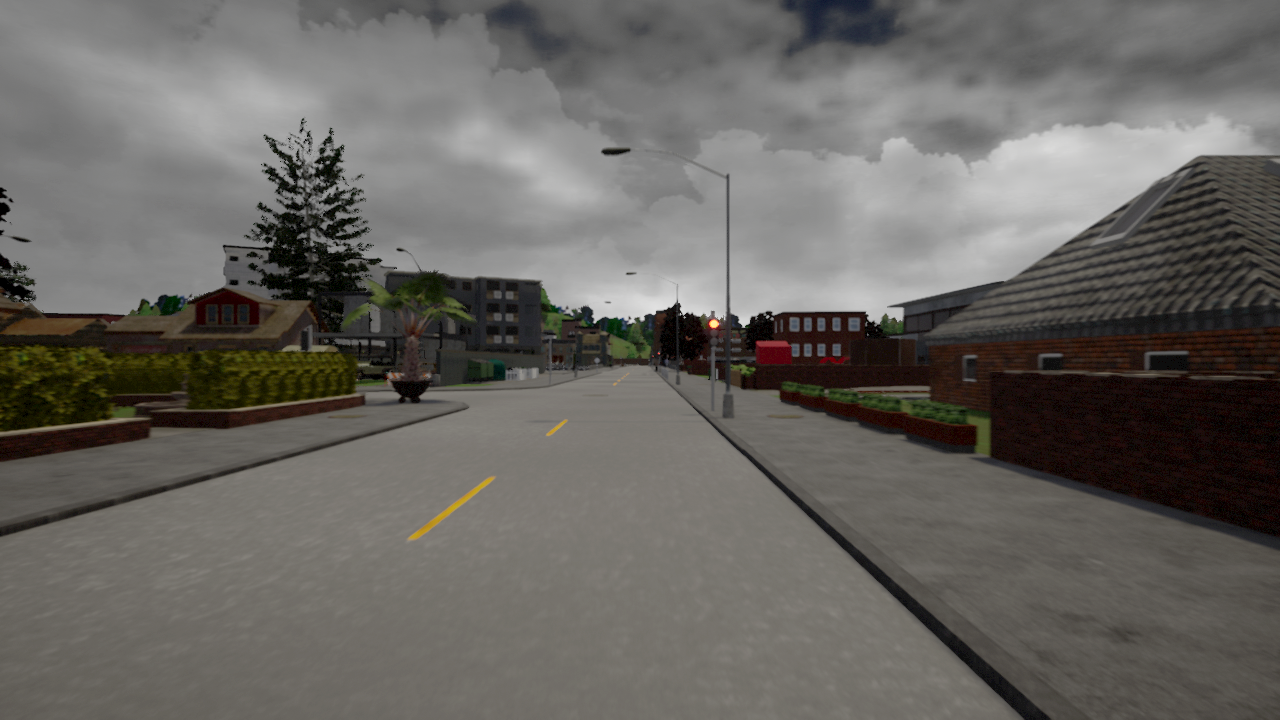red: (708, 318, 720, 348)
